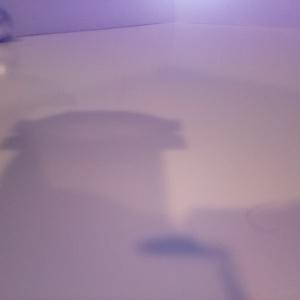alive_ball: (1, 9, 14, 40)
